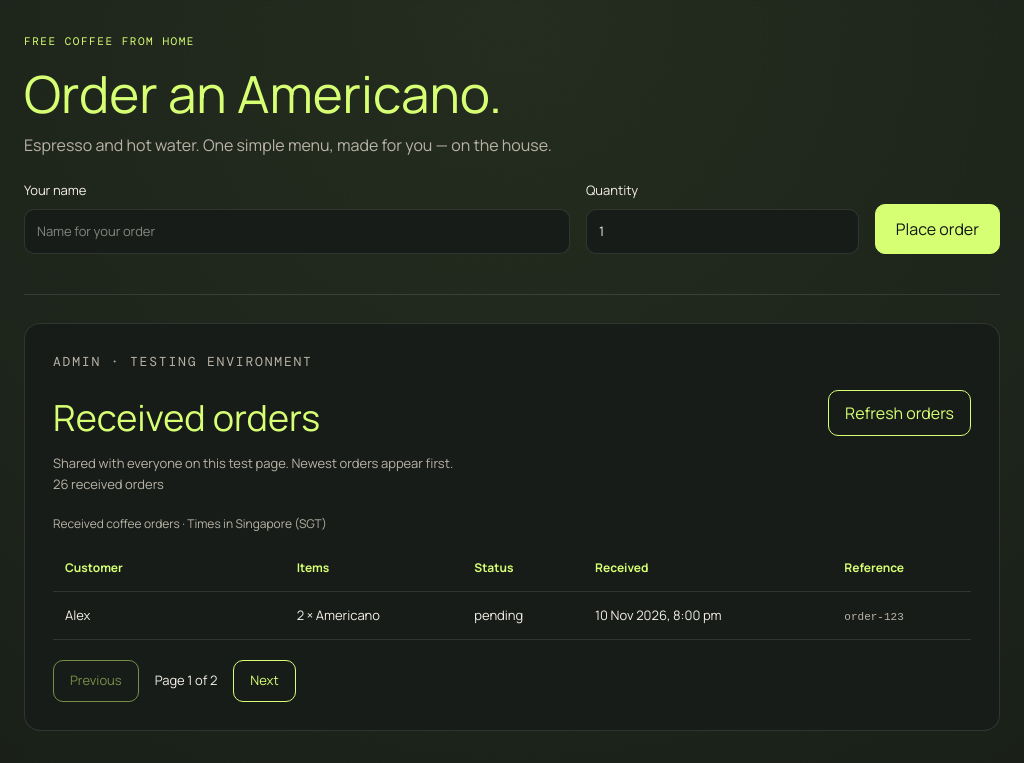
it: preserves form input and the order list when submission is unconfirmed
Check: the text "Alex" is shown, box 53,591 -> 285,640
Type "Taylor" into the field labelled "Your name" at (297, 232), box 24,209 -> 570,254
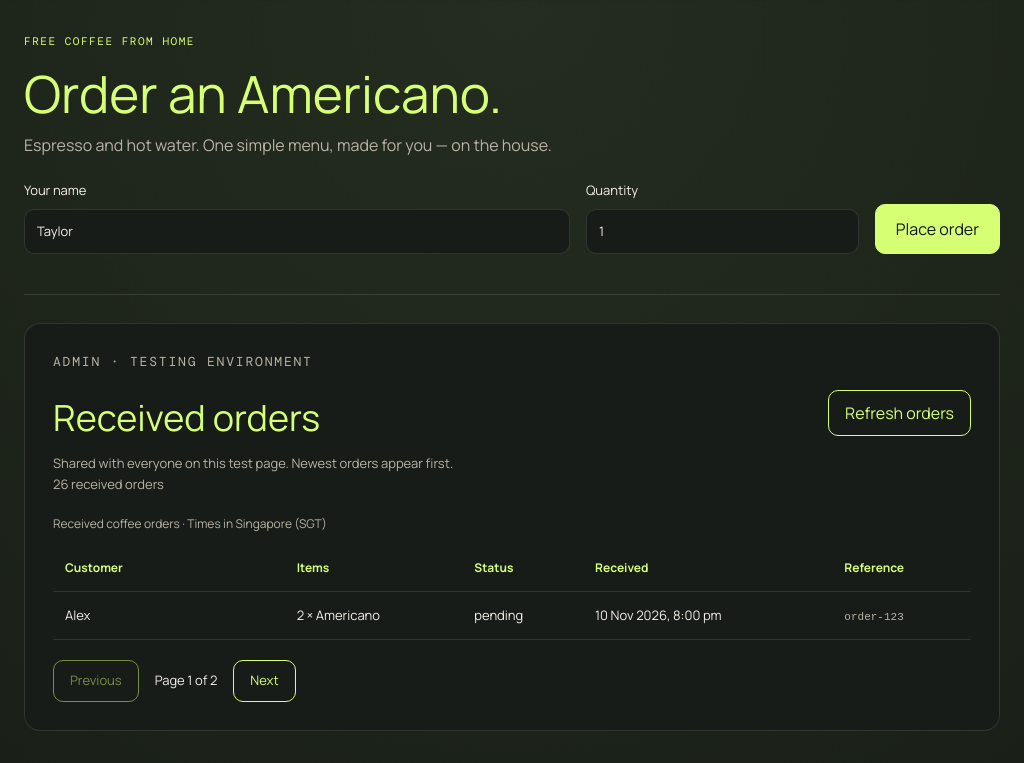
Click the button "Place order" at (937, 229), box 875,204 -> 1000,254
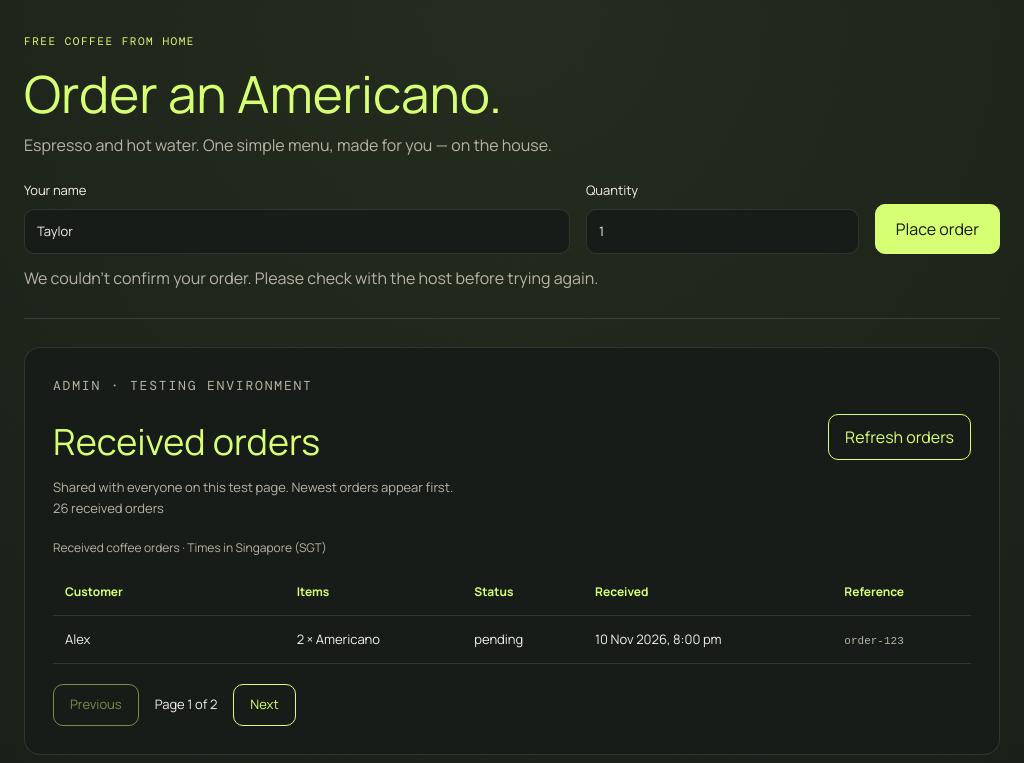
Check: the text "check with the host before trying again" is shown, box 24,267 -> 598,289
